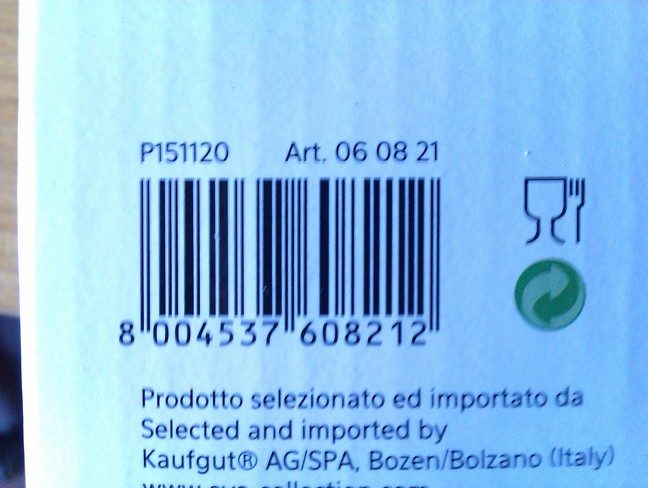barcode: (99, 170, 457, 359)
